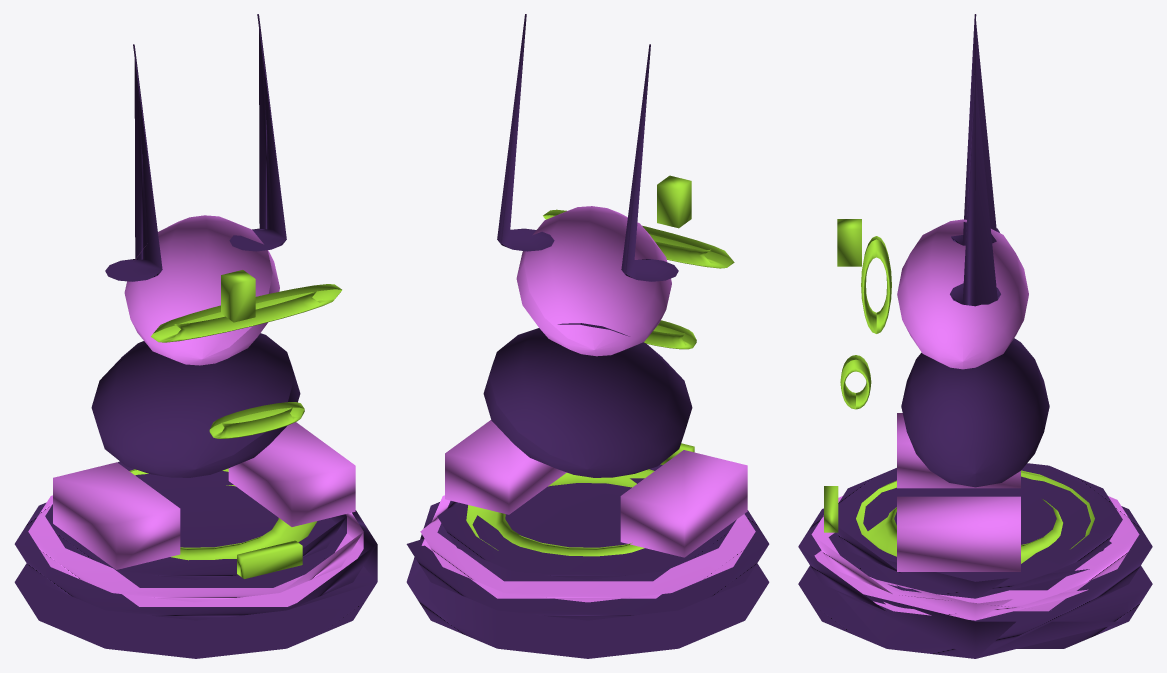
File: rainbow_dash.glb
3 views of the same model, side by side, from view 1: azimuth 30°, elevation 25°; view 2: azimuth 150°, elevation 25°; view 3: azimuth 270°, elevation 25° (orthographic). The views are drawn at different scales.
Parts seen in each view (by area): view 1: rainbow_dash_#3D1F59, rainbow_dash_#E879F9, rainbow_dash_#A3E635; view 2: rainbow_dash_#3D1F59, rainbow_dash_#E879F9, rainbow_dash_#A3E635; view 3: rainbow_dash_#3D1F59, rainbow_dash_#E879F9, rainbow_dash_#A3E635.
Part boxes in pixels (x1,y1,x2,y2): rainbow_dash_#3D1F59: (14,14,377,658); rainbow_dash_#E879F9: (28,215,363,606); rainbow_dash_#A3E635: (129,270,341,578); rainbow_dash_#3D1F59: (406,14,769,658); rainbow_dash_#E879F9: (420,206,755,602); rainbow_dash_#A3E635: (466,175,734,556); rainbow_dash_#3D1F59: (798,14,1152,658); rainbow_dash_#E879F9: (811,219,1139,620); rainbow_dash_#A3E635: (824,219,1094,563).
Bounding box in the file's own units: 1.72 × 2.89 × 1.72.
